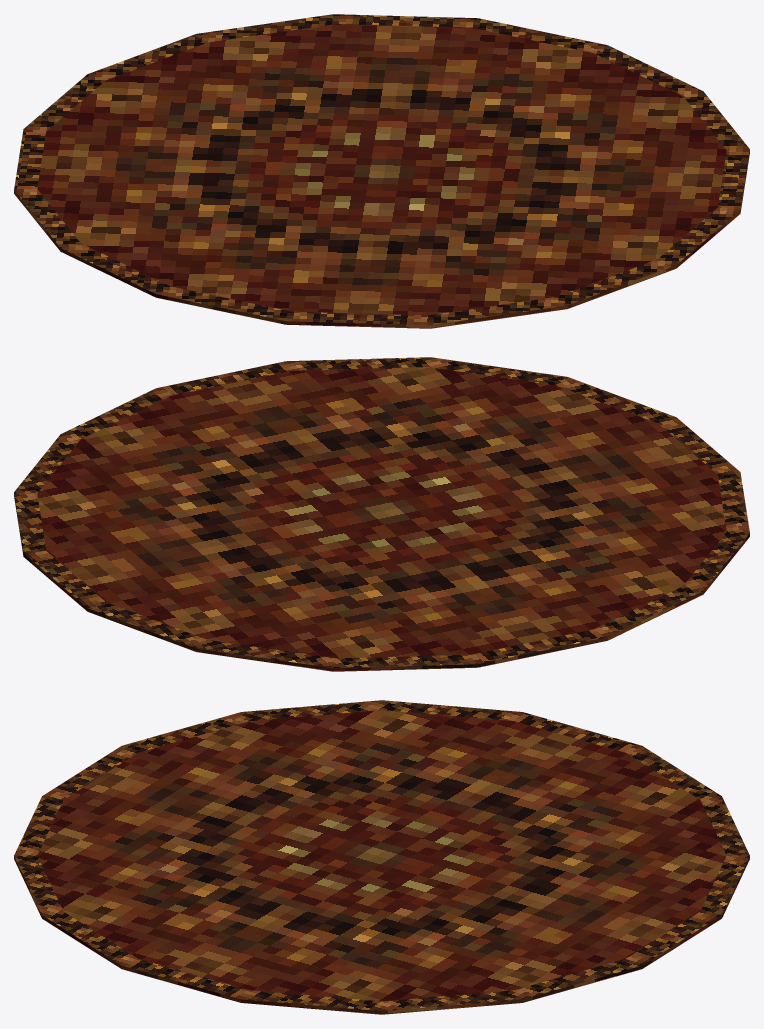
File: SM_Circular_rug.glb
3 views of the same model, one above another, from view 1: azimuth 30°, elevation 25°; view 2: azimuth 150°, elevation 25°; view 3: azimuth 270°, elevation 25° (orthographic).
Parts seen in each view (by area): view 1: Circular_Rug; view 2: Circular_Rug; view 3: Circular_Rug.
Boxes of the visible parts, <box> form: Circular_Rug: <box>14,14,749,328</box>; Circular_Rug: <box>14,357,749,671</box>; Circular_Rug: <box>14,700,749,1014</box>.
Size of the model in its own units: 3.49 by 0.0185 by 3.49.
1 material, 1 textured.
